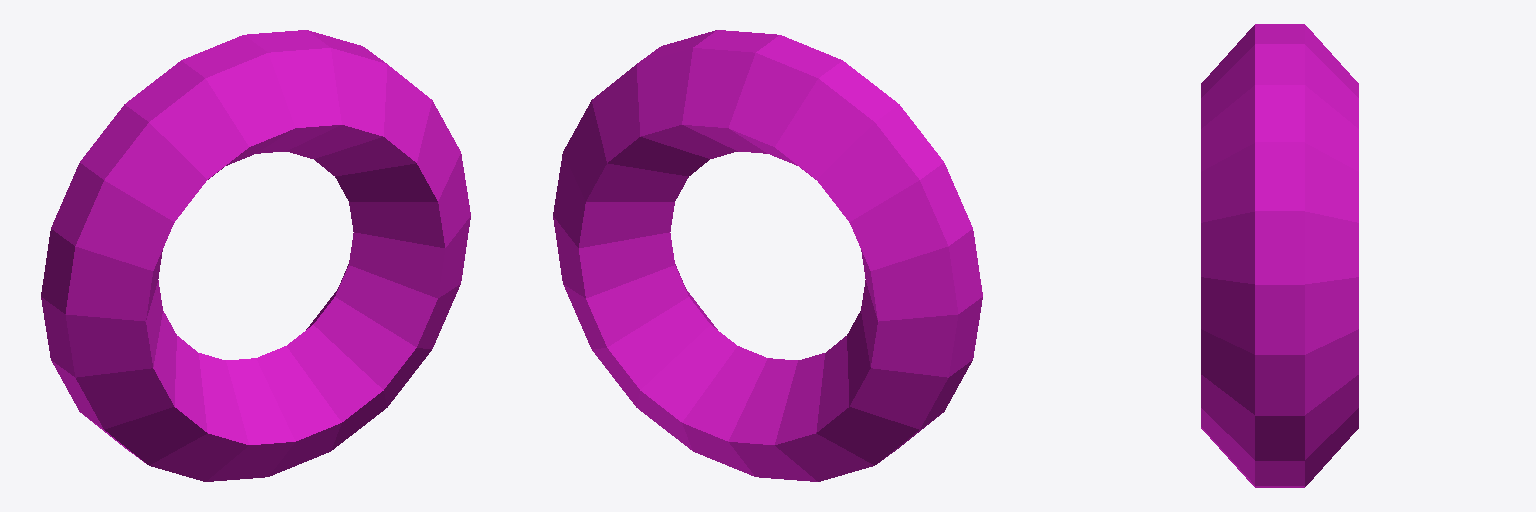
3 renders of one model, left to right at view 1: azimuth 30°, elevation 25°; view 2: azimuth 150°, elevation 25°; view 3: azimuth 270°, elevation 25°, orthographic.
Visible parts, largest first — view 1: pTorus1; view 2: pTorus1; view 3: pTorus1.
Boxes of the visible parts, box(x1,y1,x2,y2) form: pTorus1: box(41, 30, 470, 481); pTorus1: box(553, 30, 982, 481); pTorus1: box(1201, 24, 1358, 487).
Bounding box in the file's own units: 2.95 × 2.95 × 1.
1 materials, 1 textured.